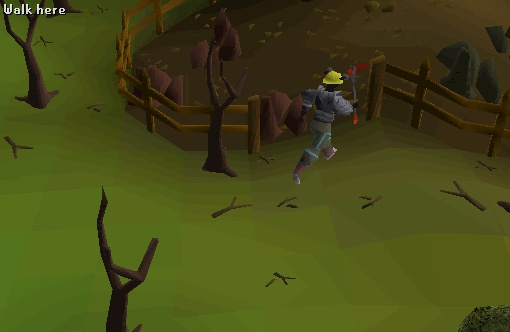coal: (417, 29, 510, 112)
iron: (234, 77, 338, 154), (126, 52, 202, 124)
